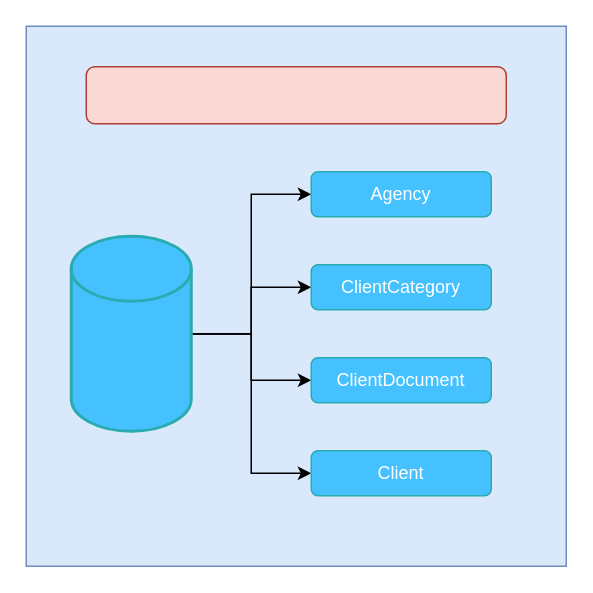
The diagram is 593 pixels wide and 593 high, and some of its shapes have lost their labels. The shapes that lost their labels are listed below. From the top down, each one's centre as x and y in pixels, then its label:
[295,94]: MS-CLIENT MICROSERVICE
[130,333]: Database (ms-client)
